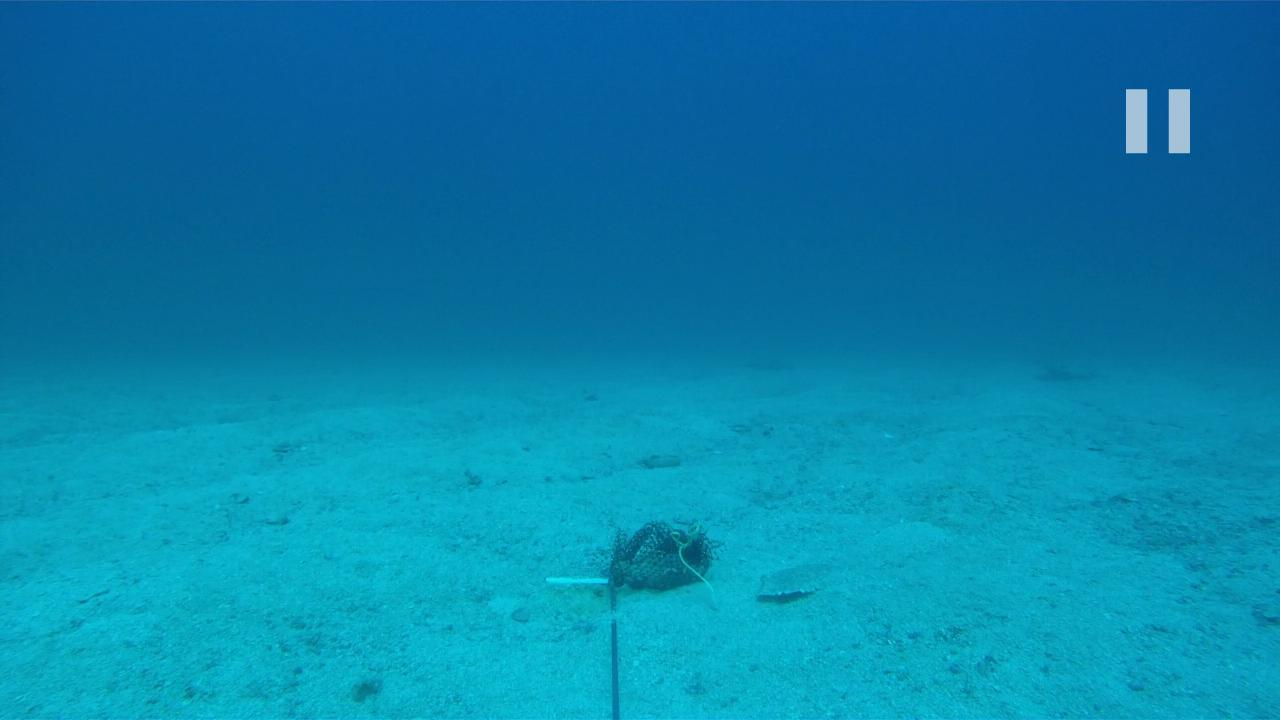bothus: (749, 553, 837, 603)
